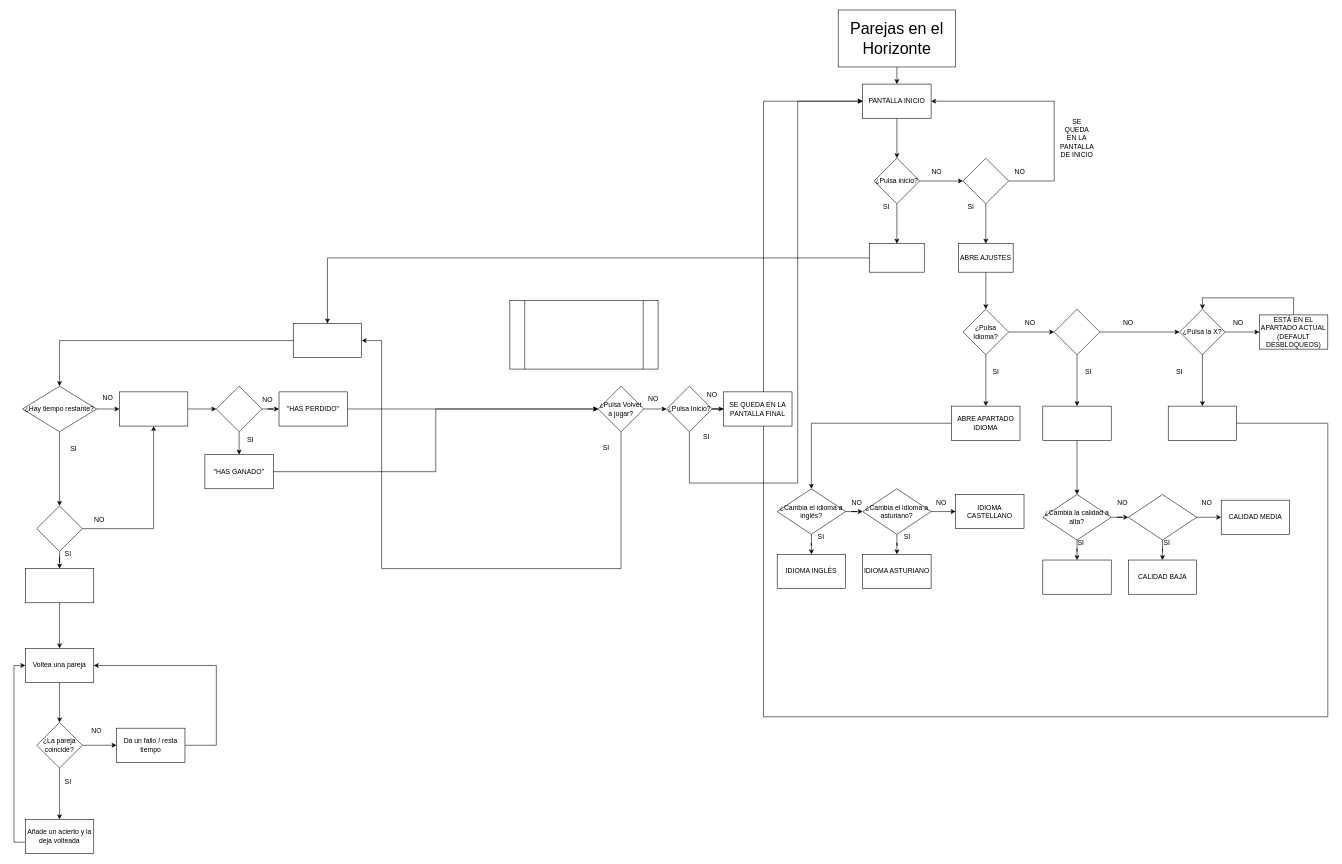
Image size: 1342x864. Some labels were removed from this diagram. The centre of each missing label's shape, as x and y in pixels:
"ABRE APARTADO GRÁFICOS" goes at pixel 1076 423.
"CALIDAD ALTA" goes at pixel 1076 576.
"Continua" goes at pixel 59 585.
"FLUJO JUEGO" goes at pixel 583 334.
"INICIA CONTADOR DE x segundos" goes at pixel 327 340.
"INICIA EL JUEGO" goes at pixel 896 257.
"SE TERMINA EL JUEGO" goes at pixel 153 408.
"VUELVE A LA PANTALLA DE INICIO" goes at pixel 1202 423.
"¿Cambia la calidad a baja?" goes at pixel 1162 517.
"¿Pulsa Ajustes?" goes at pixel 985 181.
"¿Pulsa gráficos?" goes at pixel 1077 332.
"¿Quedan parejas que voltear?" goes at pixel 59 528.
"¿Resolvió todas las parejas?" goes at pixel 239 409.
